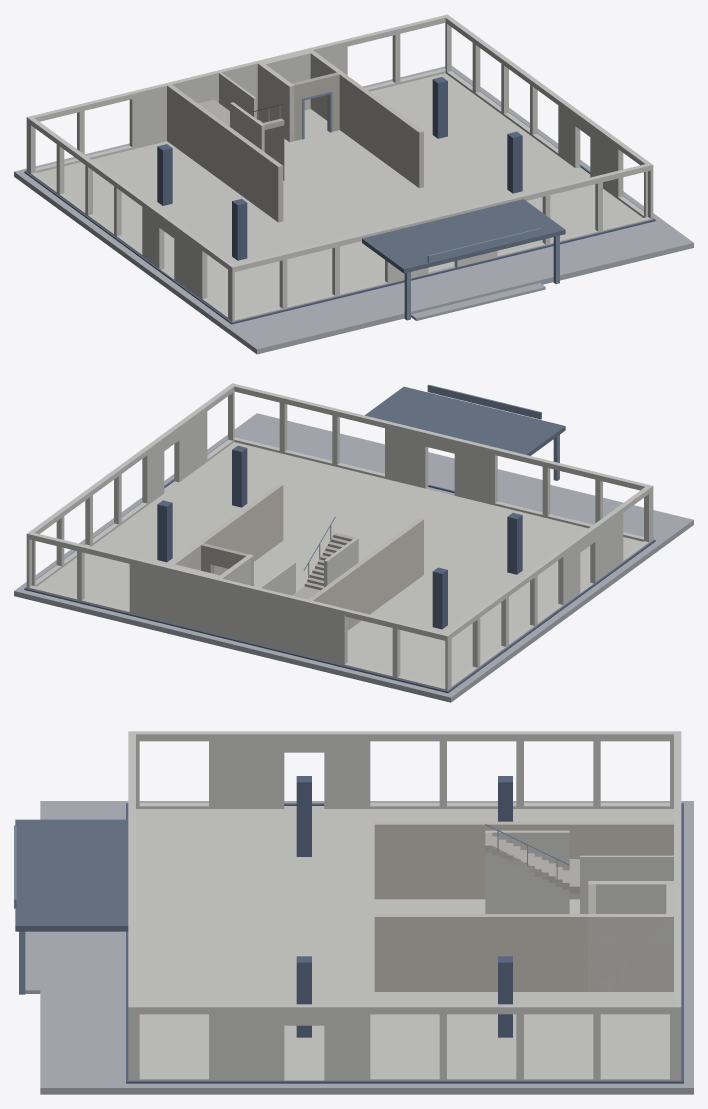
File: office-lobby.skyline-v2.lod0.glb
3 views of the same model, one above another, from view 1: azimuth 30°, elevation 25°; view 2: azimuth 150°, elevation 25°; view 3: azimuth 270°, elevation 25° (orthographic). The views are drawn at different scales.
Visible parts, largest first — view 1: office-lobby; view 2: office-lobby; view 3: office-lobby.
Part boxes in pixels (x1,y1,x2,y2): office-lobby: [14, 14, 693, 354]; office-lobby: [14, 383, 693, 702]; office-lobby: [14, 731, 693, 1094].
Bounding box in the file's own units: 27 × 4.89 × 27.05.
